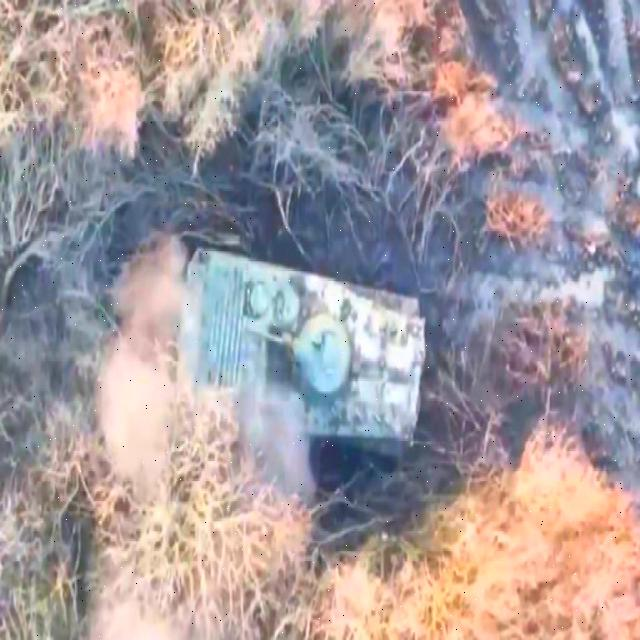APC-IFV: (172, 238, 436, 452)
